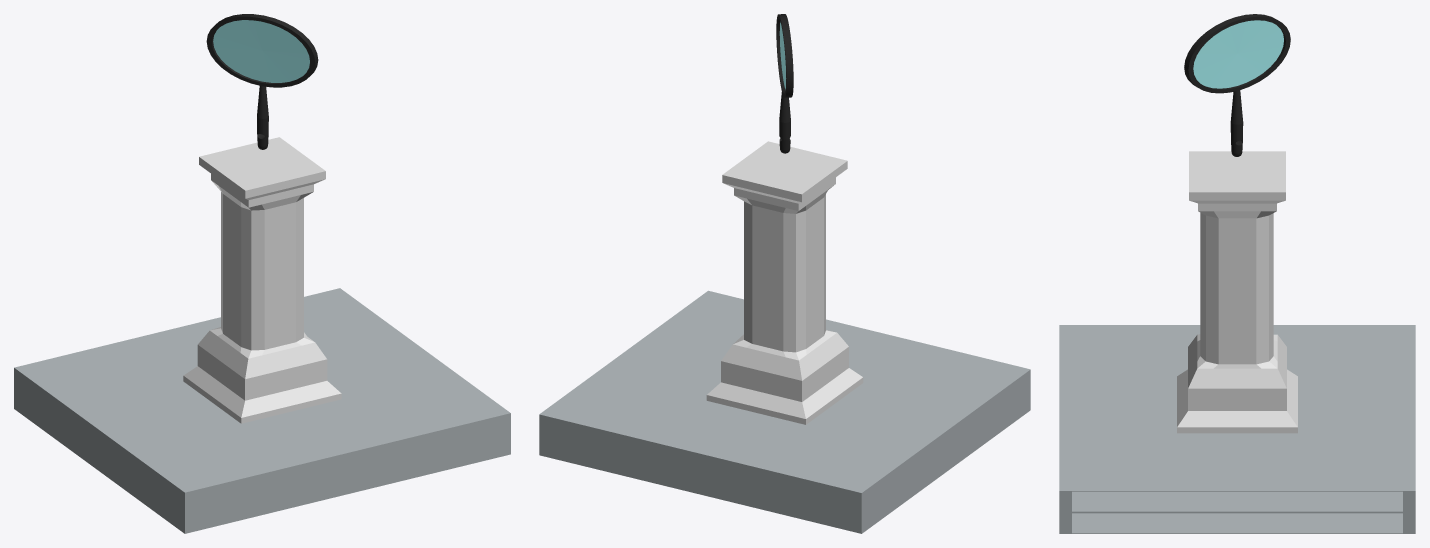
File: pillar.glb
3 views of the same model, side by side, from view 1: azimuth 30°, elevation 25°; view 2: azimuth 150°, elevation 25°; view 3: azimuth 270°, elevation 25° (orthographic). The views are drawn at different scales.
Visible parts, largest first — view 1: node_MeshObject-1274591232-PolyPaper21, node-0, buffer-0-mesh-0_1, buffer-0-mesh-0_0; view 2: node_MeshObject-1274591232-PolyPaper21, node-0, buffer-0-mesh-0_0; view 3: node_MeshObject-1274591232-PolyPaper21, node-0, buffer-0-mesh-0_1, buffer-0-mesh-0_0.
Part boxes in pixels (box(x1,y1,x2,y2)): node_MeshObject-1274591232-PolyPaper21: box(14, 288, 510, 533); node-0: box(183, 137, 341, 423); buffer-0-mesh-0_1: box(213, 20, 309, 82); buffer-0-mesh-0_0: box(206, 14, 318, 149); node_MeshObject-1274591232-PolyPaper21: box(539, 290, 1030, 533); node-0: box(706, 141, 863, 424); buffer-0-mesh-0_0: box(776, 14, 793, 153); node_MeshObject-1274591232-PolyPaper21: box(1059, 325, 1415, 533); node-0: box(1177, 151, 1297, 433); buffer-0-mesh-0_1: box(1193, 20, 1283, 88); buffer-0-mesh-0_0: box(1184, 14, 1290, 156).
Size of the model in its own units: 1.95 by 2.37 by 1.77.
